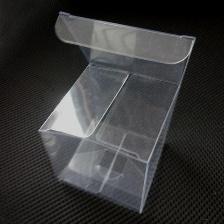plastic_box: (31, 5, 202, 218)
